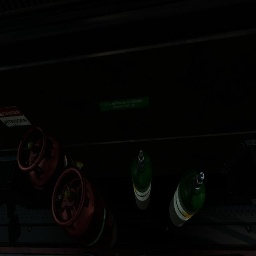0: (169, 170, 205, 227), (131, 150, 152, 210)
NitrogenTank ,: (52, 166, 117, 253), (17, 125, 78, 203)
